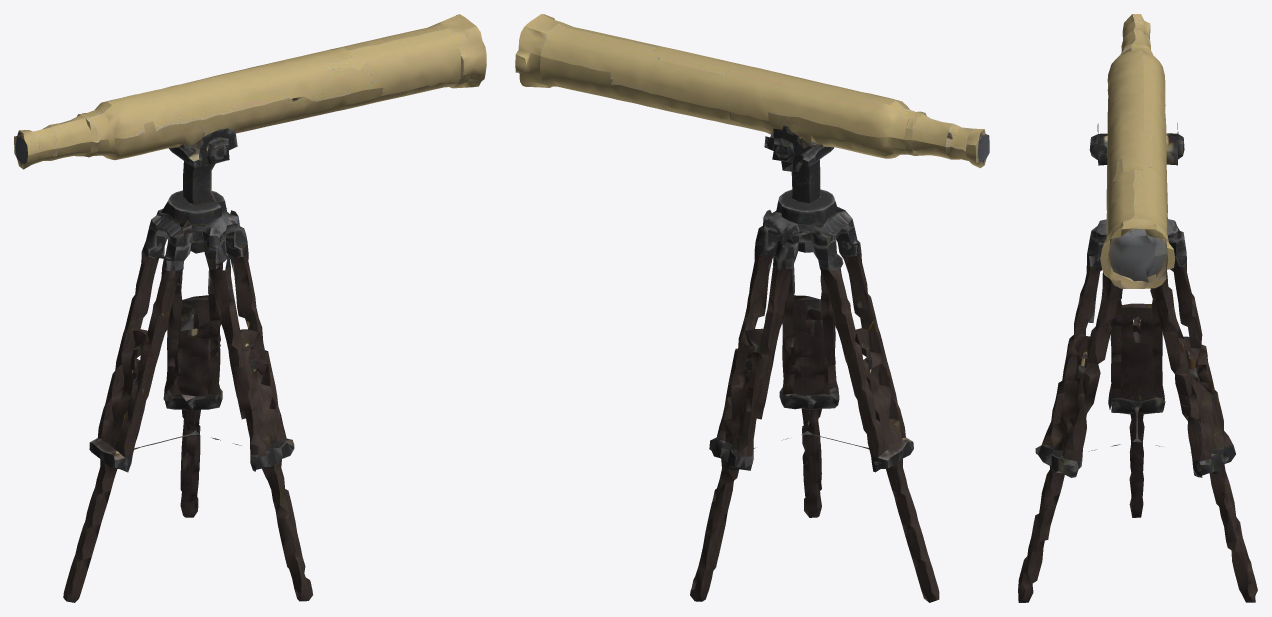
Rendered from telescope.glb.
3 views of the same model, side by side, from view 1: azimuth 30°, elevation 25°; view 2: azimuth 150°, elevation 25°; view 3: azimuth 270°, elevation 25° (orthographic).
Visible parts, largest first — view 1: telescope; view 2: telescope; view 3: telescope.
Boxes of the visible parts, bbox=[...] form: telescope: bbox=[14, 14, 486, 602]; telescope: bbox=[515, 14, 989, 602]; telescope: bbox=[1018, 14, 1257, 602].
Bounding box in the file's own units: 1.73 × 1.8 × 0.8057.
1 material, 1 textured.
